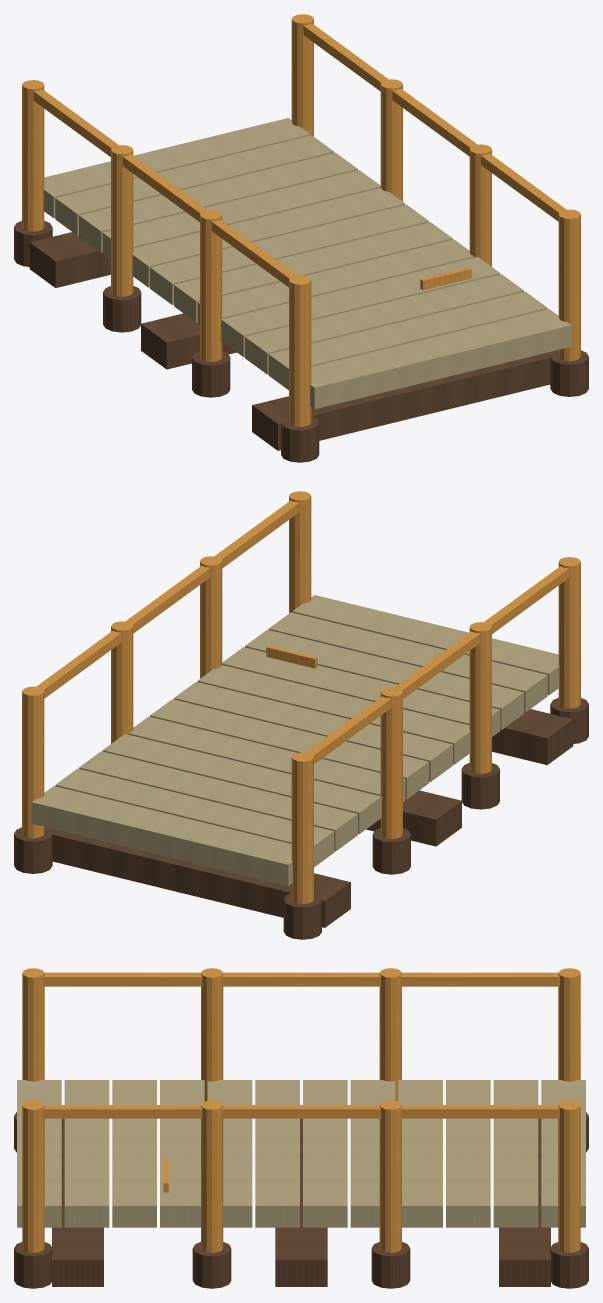
File: atlas100-s020-a01.glb
3 renders of one model, top to bottom at view 1: azimuth 30°, elevation 25°; view 2: azimuth 150°, elevation 25°; view 3: azimuth 270°, elevation 25°, orthographic.
Parts seen in each view (by area): view 1: atlas100-s020-a01:part-011, atlas100-s020-a01:part-032, atlas100-s020-a01:part-009, atlas100-s020-a01:part-010, atlas100-s020-a01:part-005, atlas100-s020-a01:part-001, atlas100-s020-a01:part-002, atlas100-s020-a01:part-006, atlas100-s020-a01:part-004, atlas100-s020-a01:part-008, atlas100-s020-a01:part-000, atlas100-s020-a01:part-003 (+19 smaller); view 2: atlas100-s020-a01:part-000, atlas100-s020-a01:part-030, atlas100-s020-a01:part-003, atlas100-s020-a01:part-002, atlas100-s020-a01:part-001, atlas100-s020-a01:part-006, atlas100-s020-a01:part-010, atlas100-s020-a01:part-005, atlas100-s020-a01:part-007, atlas100-s020-a01:part-011, atlas100-s020-a01:part-004, atlas100-s020-a01:part-009 (+19 smaller); view 3: atlas100-s020-a01:part-020, atlas100-s020-a01:part-029, atlas100-s020-a01:part-001, atlas100-s020-a01:part-010, atlas100-s020-a01:part-002, atlas100-s020-a01:part-005, atlas100-s020-a01:part-006, atlas100-s020-a01:part-009, atlas100-s020-a01:part-003, atlas100-s020-a01:part-008, atlas100-s020-a01:part-004, atlas100-s020-a01:part-007 (+17 smaller).
Part boxes in pixels (bbox=[...]): atlas100-s020-a01:part-011: bbox=[310, 309, 571, 409]; atlas100-s020-a01:part-032: bbox=[252, 350, 558, 450]; atlas100-s020-a01:part-009: bbox=[245, 274, 523, 374]; atlas100-s020-a01:part-010: bbox=[268, 291, 547, 390]; atlas100-s020-a01:part-005: bbox=[150, 205, 428, 304]; atlas100-s020-a01:part-001: bbox=[55, 135, 334, 235]; atlas100-s020-a01:part-002: bbox=[79, 152, 357, 252]; atlas100-s020-a01:part-006: bbox=[174, 222, 452, 322]; atlas100-s020-a01:part-004: bbox=[132, 188, 405, 287]; atlas100-s020-a01:part-008: bbox=[221, 257, 500, 357]; atlas100-s020-a01:part-000: bbox=[43, 118, 310, 218]; atlas100-s020-a01:part-003: bbox=[102, 170, 380, 259]; atlas100-s020-a01:part-000: bbox=[31, 786, 292, 886]; atlas100-s020-a01:part-030: bbox=[44, 827, 350, 927]; atlas100-s020-a01:part-003: bbox=[102, 734, 381, 834]; atlas100-s020-a01:part-002: bbox=[79, 751, 357, 851]; atlas100-s020-a01:part-001: bbox=[55, 768, 334, 867]; atlas100-s020-a01:part-006: bbox=[174, 682, 452, 781]; atlas100-s020-a01:part-010: bbox=[268, 612, 547, 712]; atlas100-s020-a01:part-005: bbox=[150, 699, 428, 799]; atlas100-s020-a01:part-007: bbox=[197, 665, 470, 764]; atlas100-s020-a01:part-011: bbox=[292, 595, 559, 695]; atlas100-s020-a01:part-004: bbox=[128, 716, 405, 801]; atlas100-s020-a01:part-009: bbox=[245, 629, 523, 729]; atlas100-s020-a01:part-020: bbox=[43, 972, 559, 986]; atlas100-s020-a01:part-029: bbox=[43, 1105, 559, 1118]; atlas100-s020-a01:part-001: bbox=[493, 1080, 538, 1227]; atlas100-s020-a01:part-010: bbox=[64, 1080, 109, 1227]; atlas100-s020-a01:part-002: bbox=[446, 1080, 490, 1227]; atlas100-s020-a01:part-005: bbox=[303, 1080, 347, 1227]; atlas100-s020-a01:part-006: bbox=[255, 1080, 299, 1227]; atlas100-s020-a01:part-009: bbox=[112, 1080, 156, 1227]; atlas100-s020-a01:part-003: bbox=[398, 1080, 442, 1227]; atlas100-s020-a01:part-008: bbox=[160, 1080, 204, 1227]; atlas100-s020-a01:part-004: bbox=[350, 1080, 395, 1227]; atlas100-s020-a01:part-007: bbox=[207, 1080, 252, 1227].
Size of the model in its own units: 2.36 by 1.3 by 3.86.
Materials: 4 (4 with a texture image).
